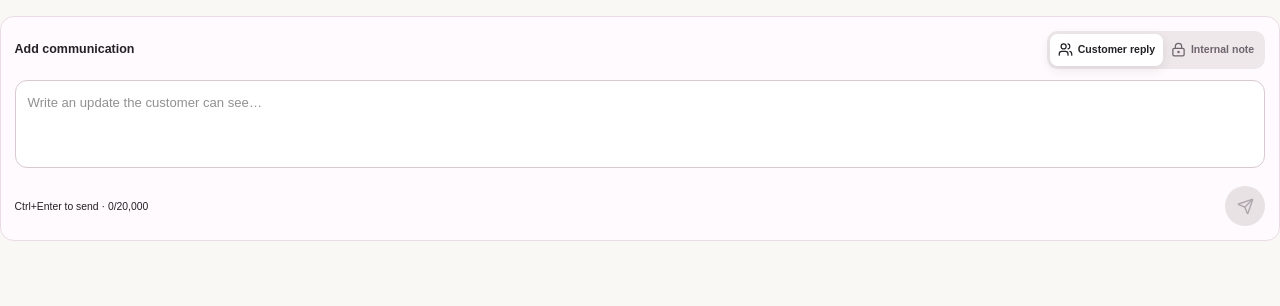
ticket comment composer › prevents duplicate submissions while pending
Type "One message only." into the text box named "Comment" at (640, 124), box [15, 80, 1265, 168]
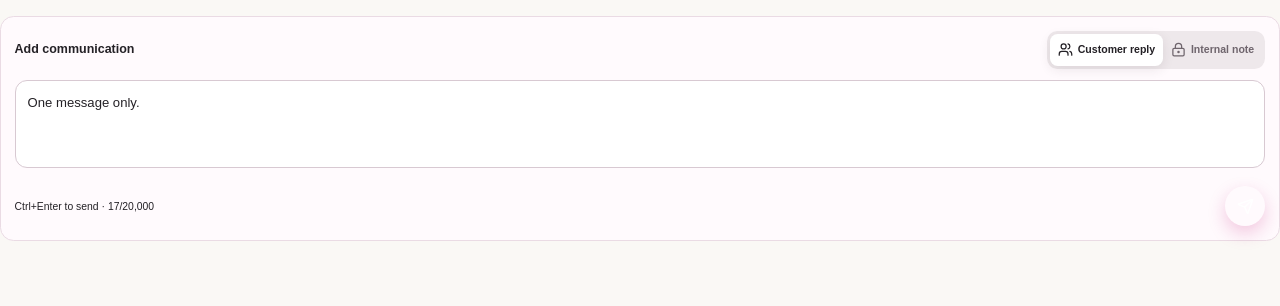
Click the button named "Send customer reply" at (1245, 206), box [1225, 186, 1265, 226]
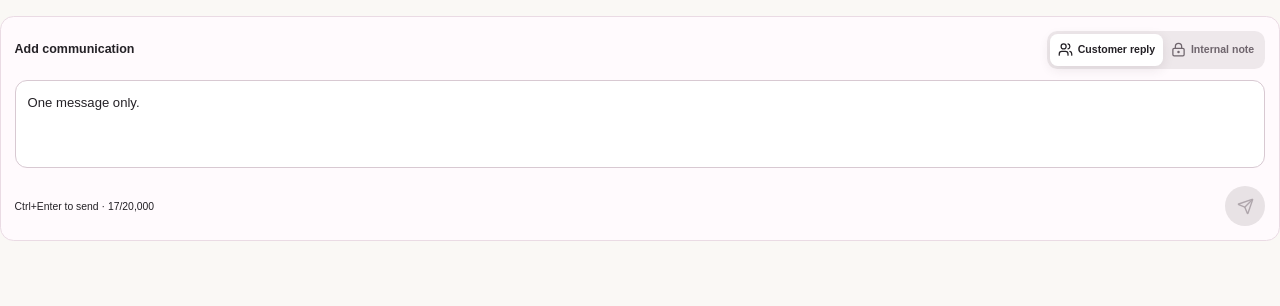
Click the button named "Send customer reply" at (1245, 206), box [1225, 186, 1265, 226]
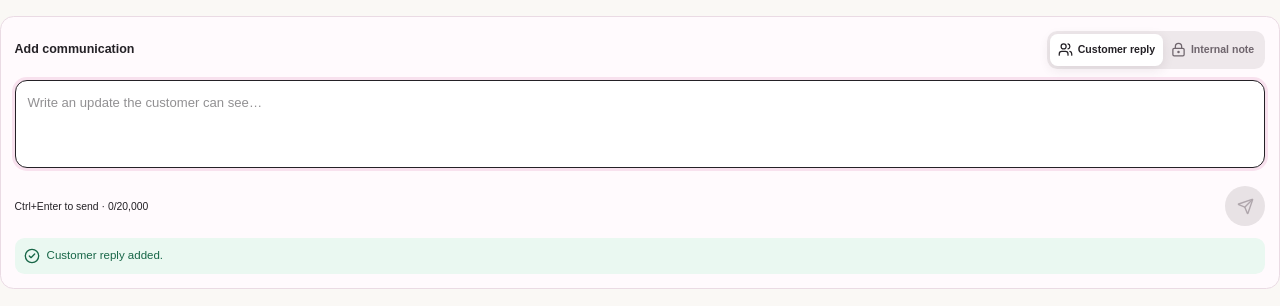
Expected: the text "Customer reply added." is shown, [15, 238, 1265, 274]
